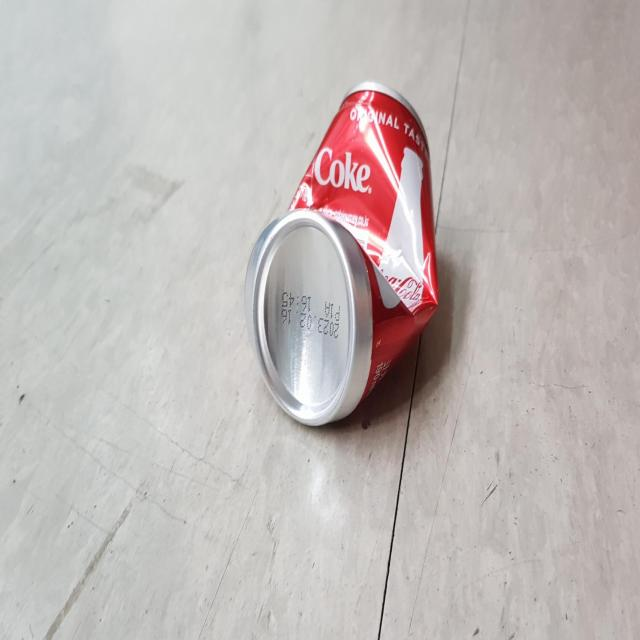can: (245, 81, 438, 425)
